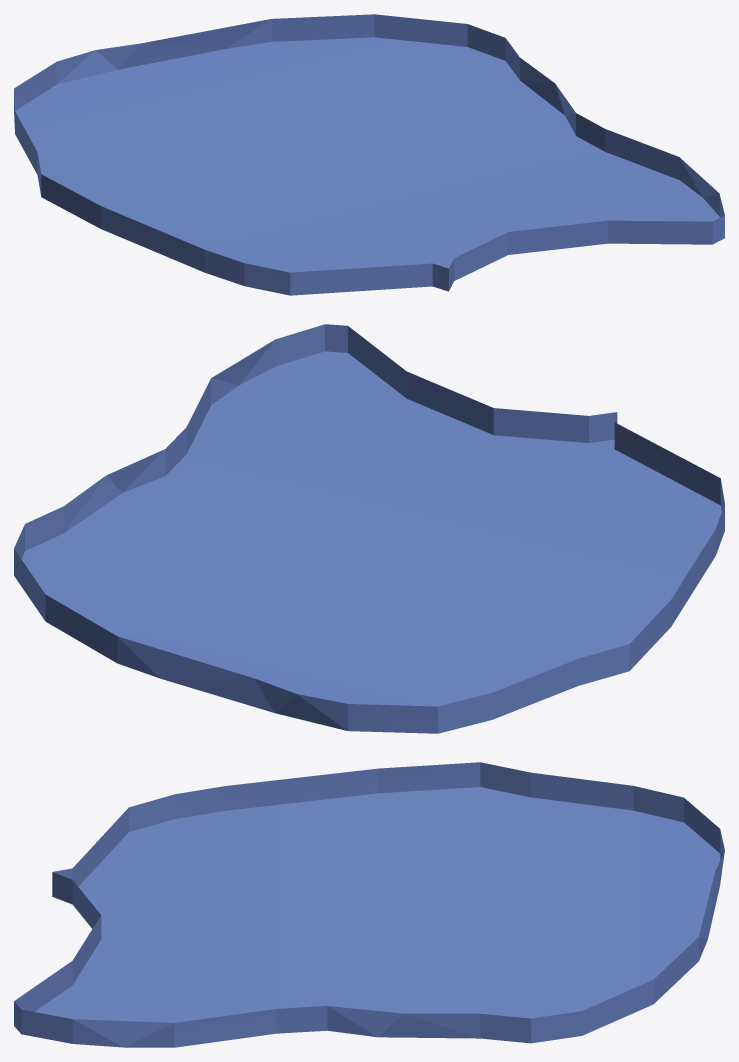
Rendered from sp_ground05.glb.
3 renders of one model, top to bottom at view 1: azimuth 30°, elevation 25°; view 2: azimuth 150°, elevation 25°; view 3: azimuth 270°, elevation 25°, orthographic. The views are drawn at different scales.
Parts seen in each view (by area): view 1: SP_Ground05; view 2: SP_Ground05; view 3: SP_Ground05.
Part boxes in pixels (x1,y1,x2,y2): SP_Ground05: [14, 14, 724, 295]; SP_Ground05: [14, 324, 724, 733]; SP_Ground05: [14, 762, 724, 1047].
Size of the model in its own units: 436 by 19.33 by 502.
Materials: 1 (1 with a texture image).
